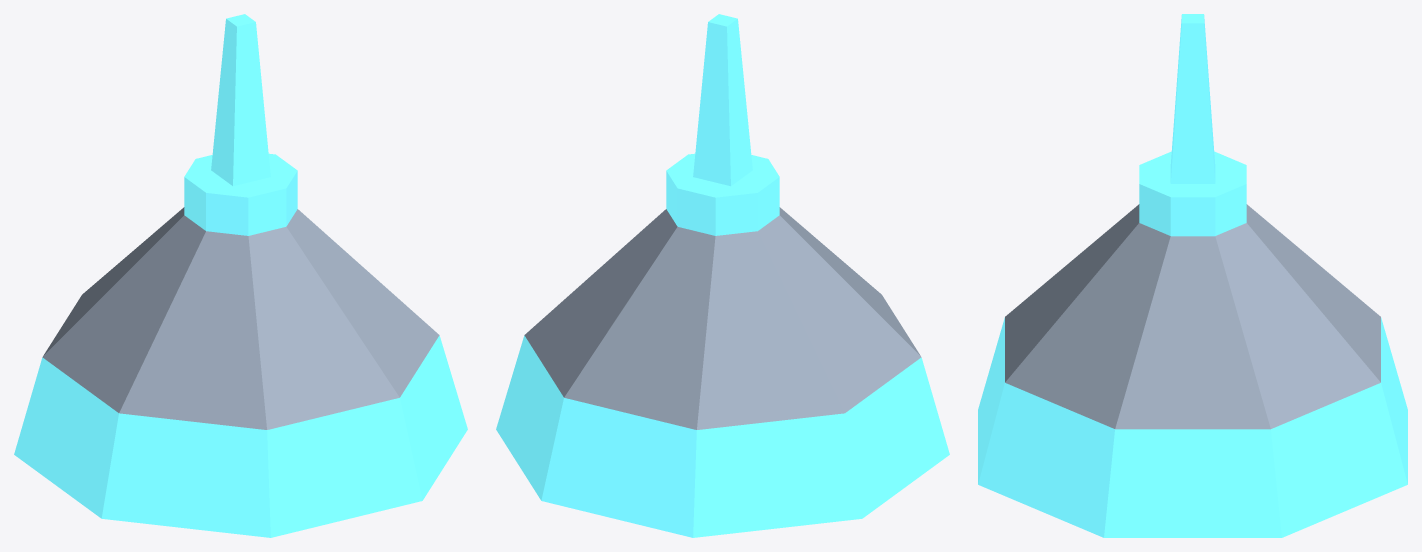
Rendered from rocket_topB.glb.
3 views of the same model, side by side, from view 1: azimuth 30°, elevation 25°; view 2: azimuth 150°, elevation 25°; view 3: azimuth 270°, elevation 25° (orthographic).
Visible parts, largest first — view 1: rocket_topB; view 2: rocket_topB; view 3: rocket_topB.
Part boxes in pixels (left/top/right/bottom): rocket_topB: left=14, top=14, right=467, bottom=537; rocket_topB: left=496, top=14, right=949, bottom=537; rocket_topB: left=978, top=14, right=1407, bottom=537.
Size of the model in its own units: 1 by 1.1 by 1.
